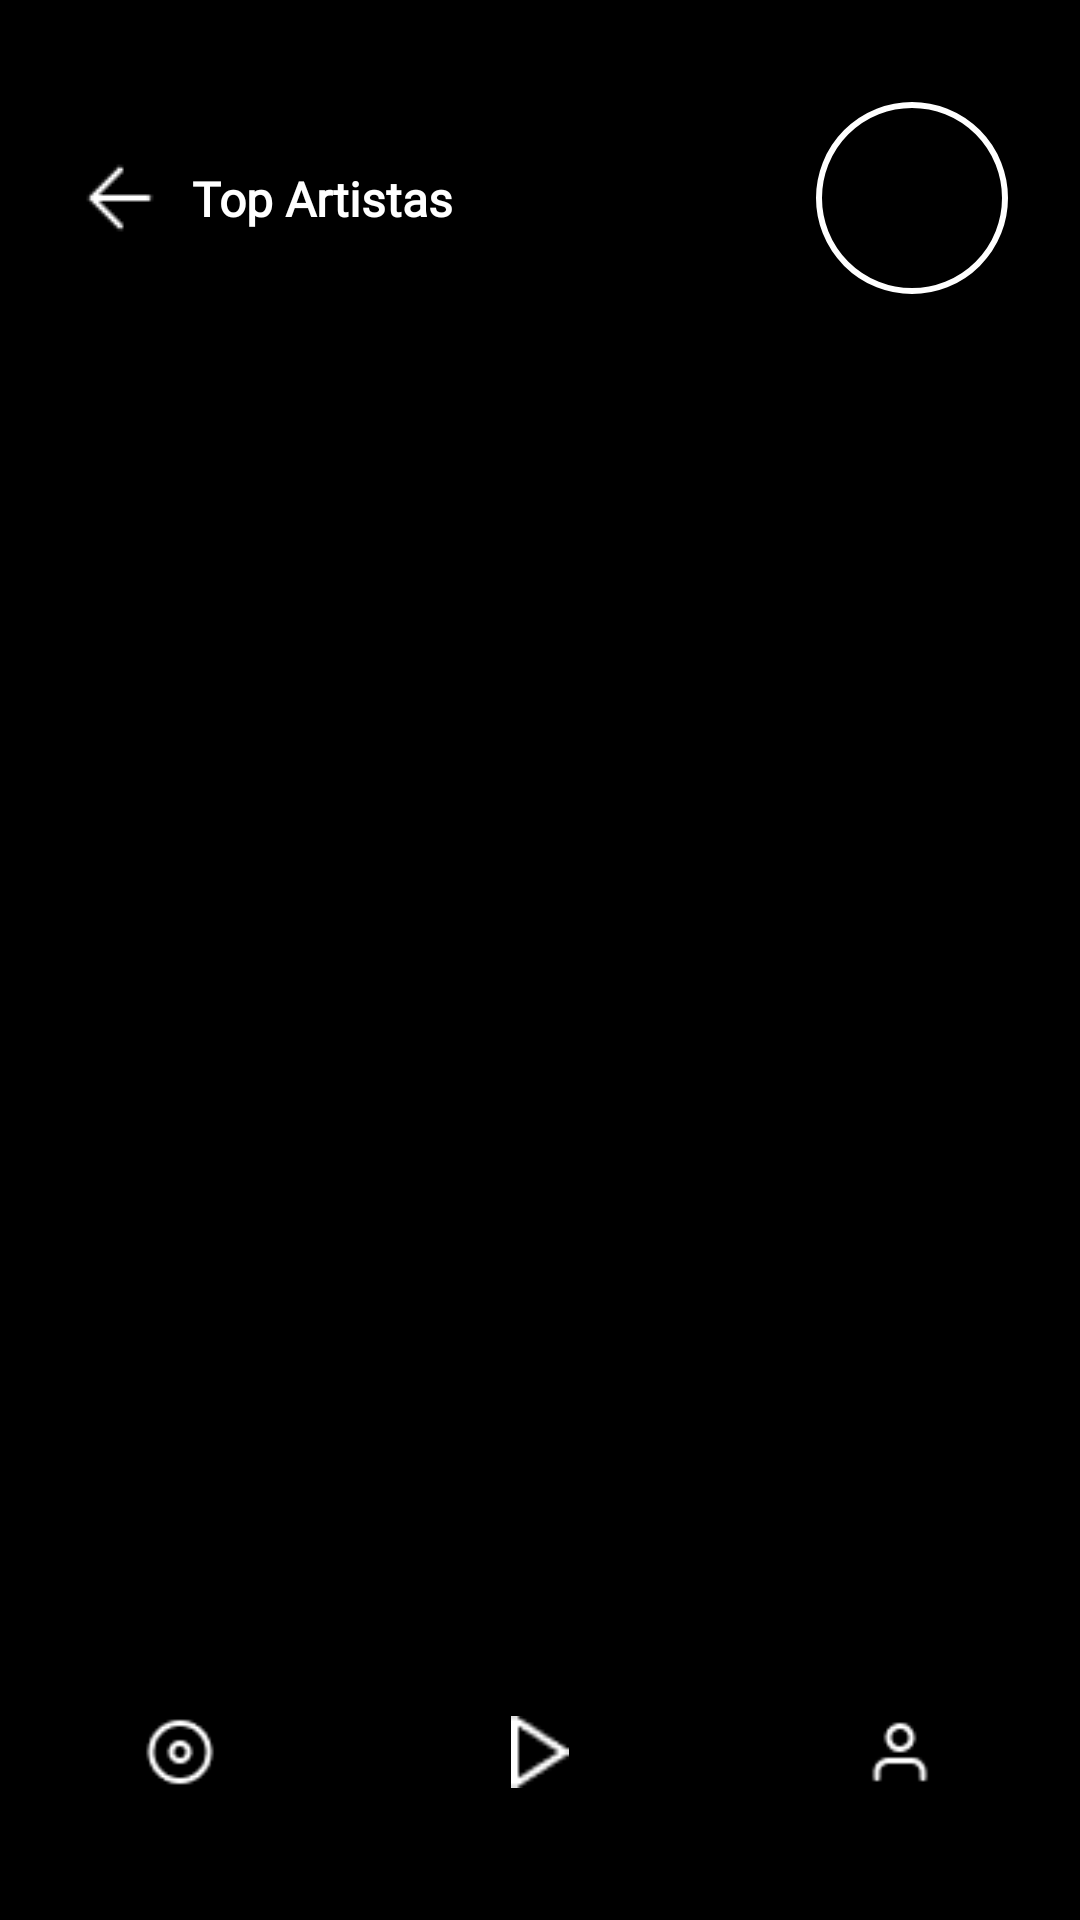

Named icons in this screenshot (1080px×1920px) and their centers, [x,y]:
botão de voltar: [120,198]
